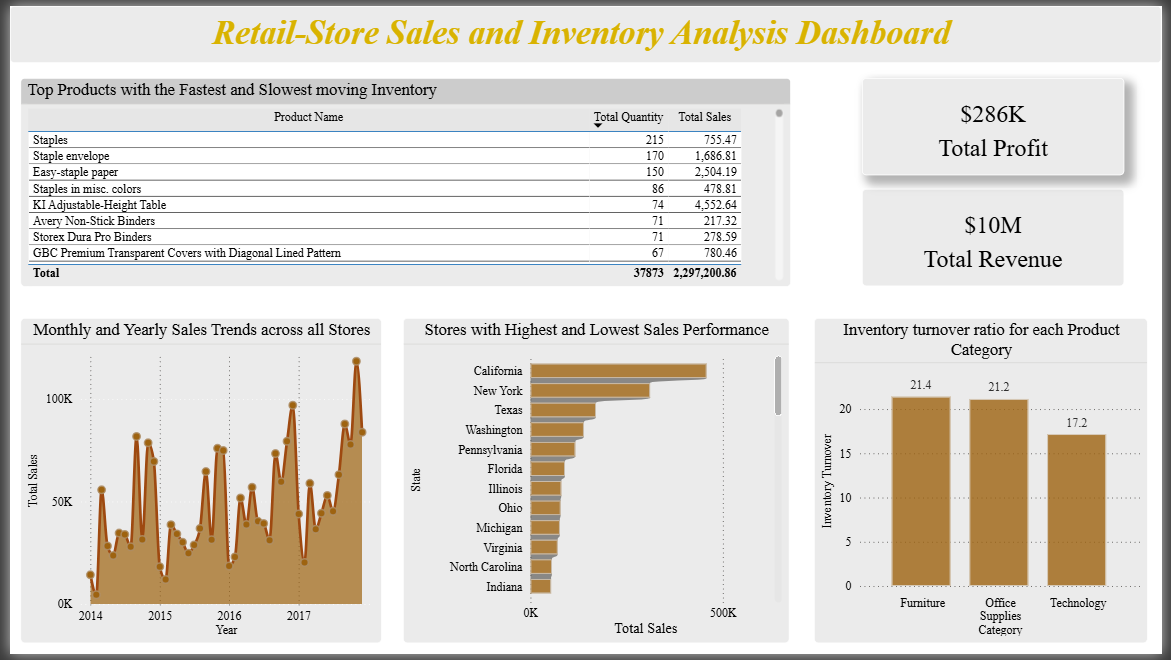

The page's visual inventory and layout, read from the dashboard file:
{"tool":"powerbi","page":{"name":"Page 1","canvas":[1280,720],"ordinal":0},"visuals":[{"type":"areaChart","title":"Monthly and Yearly Sales Trends across all Stores","fields":{"Y":["Sample - Superstore.Total Sales"],"Category":["Date Table.Date.Variation.Date Hierarchy.Year","Date Table.Date.Variation.Date Hierarchy.Month"]},"box":[11.3,346.5,401.6,361.1],"z":0},{"type":"barChart","title":"Stores with Highest and Lowest Sales Performance","fields":{"Category":["Sample - Superstore.State","Sample - Superstore.City"],"Y":["Sample - Superstore.Total Sales"]},"box":[437.2,346.5,429.1,361.1],"z":1000},{"type":"clusteredColumnChart","title":" Inventory turnover ratio for each Product Category","fields":{"Category":["Sample - Superstore.Category"],"Y":["Sample - Superstore.Inventory Turnover"]},"box":[893.8,346.5,370.8,361.1],"z":2000},{"type":"tableEx","title":"Top Products with the Fastest and Slowest moving Inventory","fields":{"Values":["Sample - Superstore.Product Name","Sample - Superstore.Total Quantity","Sample - Superstore.Total Sales"]},"box":[11.1,79.5,855.7,232.2],"z":3000},{"type":"textbox","box":[0,0,1279.2,63.1],"z":4000},{"type":"card","fields":{"Values":["Sample - Superstore.Revenue"]},"box":[946.4,203.6,291.1,108.2],"z":5000},{"type":"card","fields":{"Values":["Sample - Superstore.Total Profit"]},"box":[946.4,79.5,291.1,108.2],"z":6000}]}

Visuals, with their boxes in screenshot pixels (x1, y1, x2, y2), scaled from the page's 1280x720 canvas onto the 1171x660 screenshot:
"Monthly and Yearly Sales Trends across all Stores" areaChart: (10, 318, 378, 649)
"Stores with Highest and Lowest Sales Performance" barChart: (400, 318, 793, 649)
" Inventory turnover ratio for each Product Category" clusteredColumnChart: (818, 318, 1157, 649)
"Top Products with the Fastest and Slowest moving Inventory" tableEx: (10, 73, 793, 286)
textbox: (0, 0, 1170, 58)
card - Sample - Superstore.Revenue: (866, 187, 1132, 286)
card - Sample - Superstore.Total Profit: (866, 73, 1132, 172)
